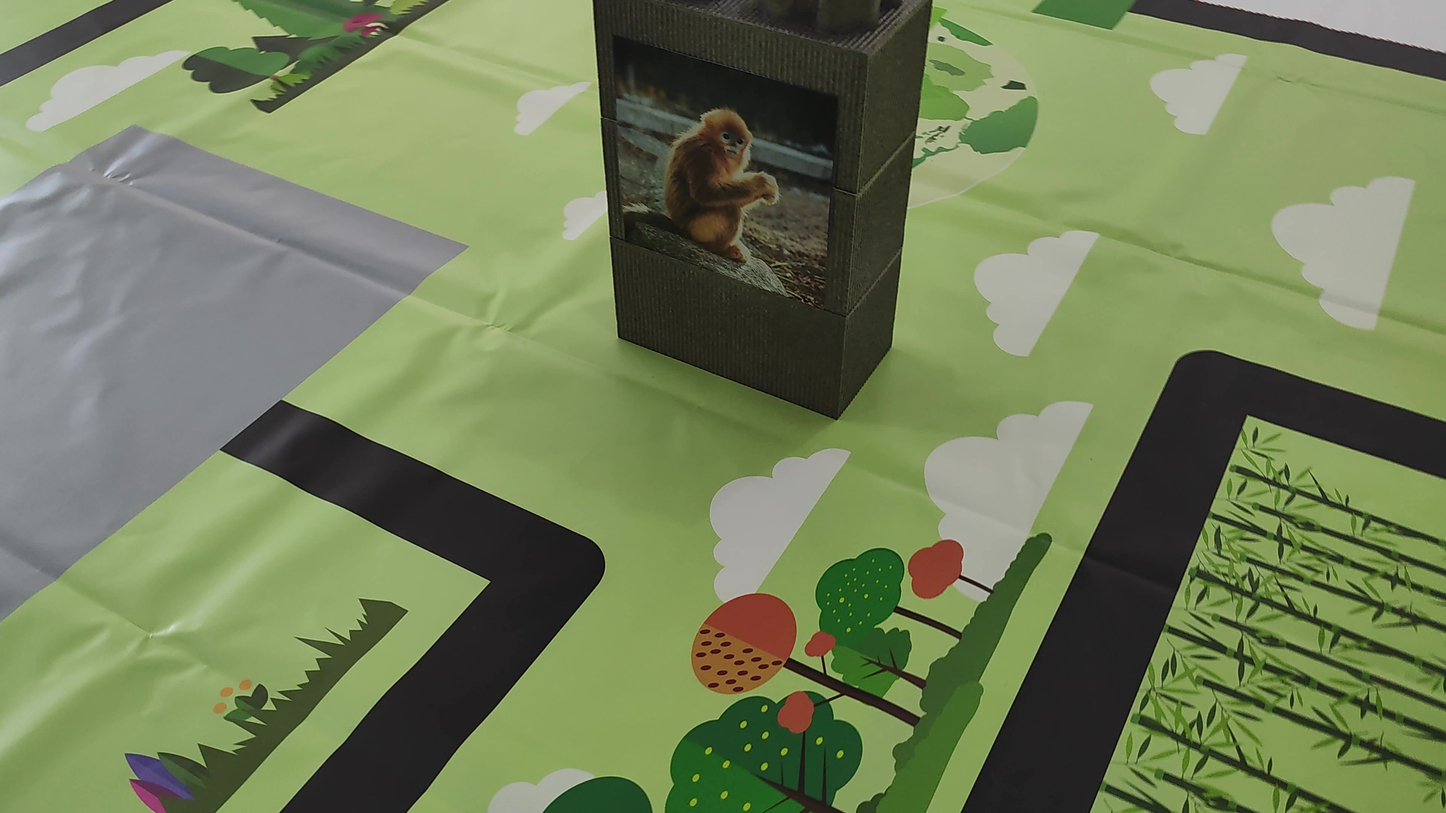monkey: (619, 92, 800, 290)
